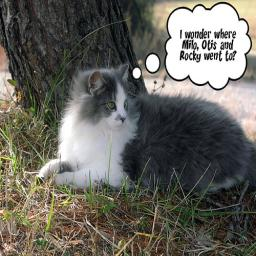catnose: (118, 115, 126, 125)
